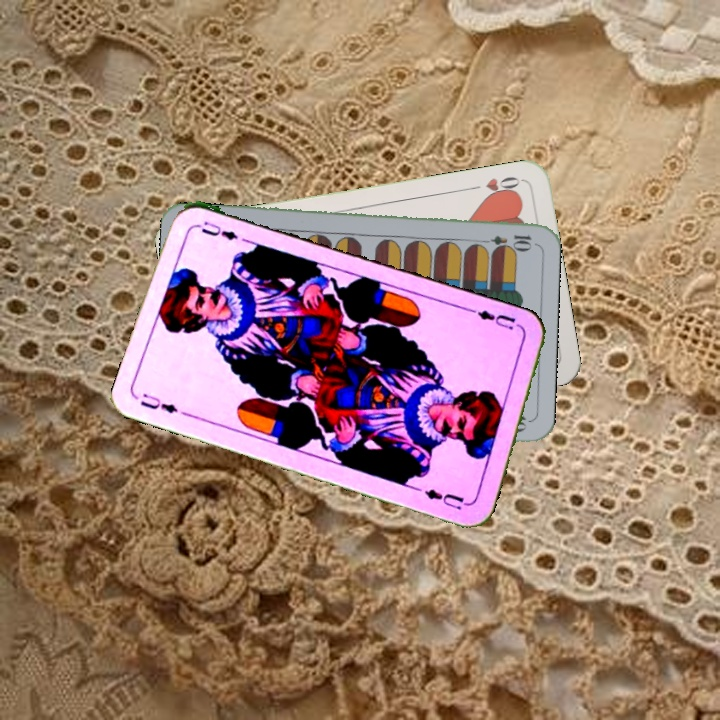E10: (475, 231, 534, 249)
EU: (469, 306, 527, 342), (136, 389, 181, 417)
HO: (465, 172, 524, 201)
